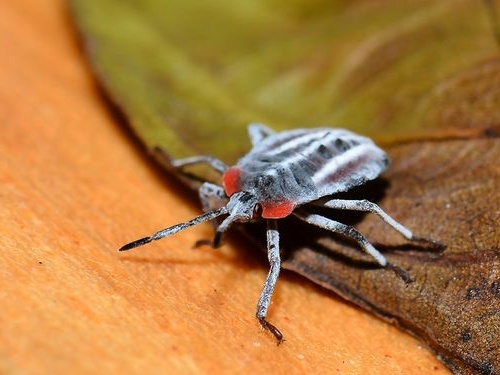Stink_Bug: (187, 105, 394, 234)
